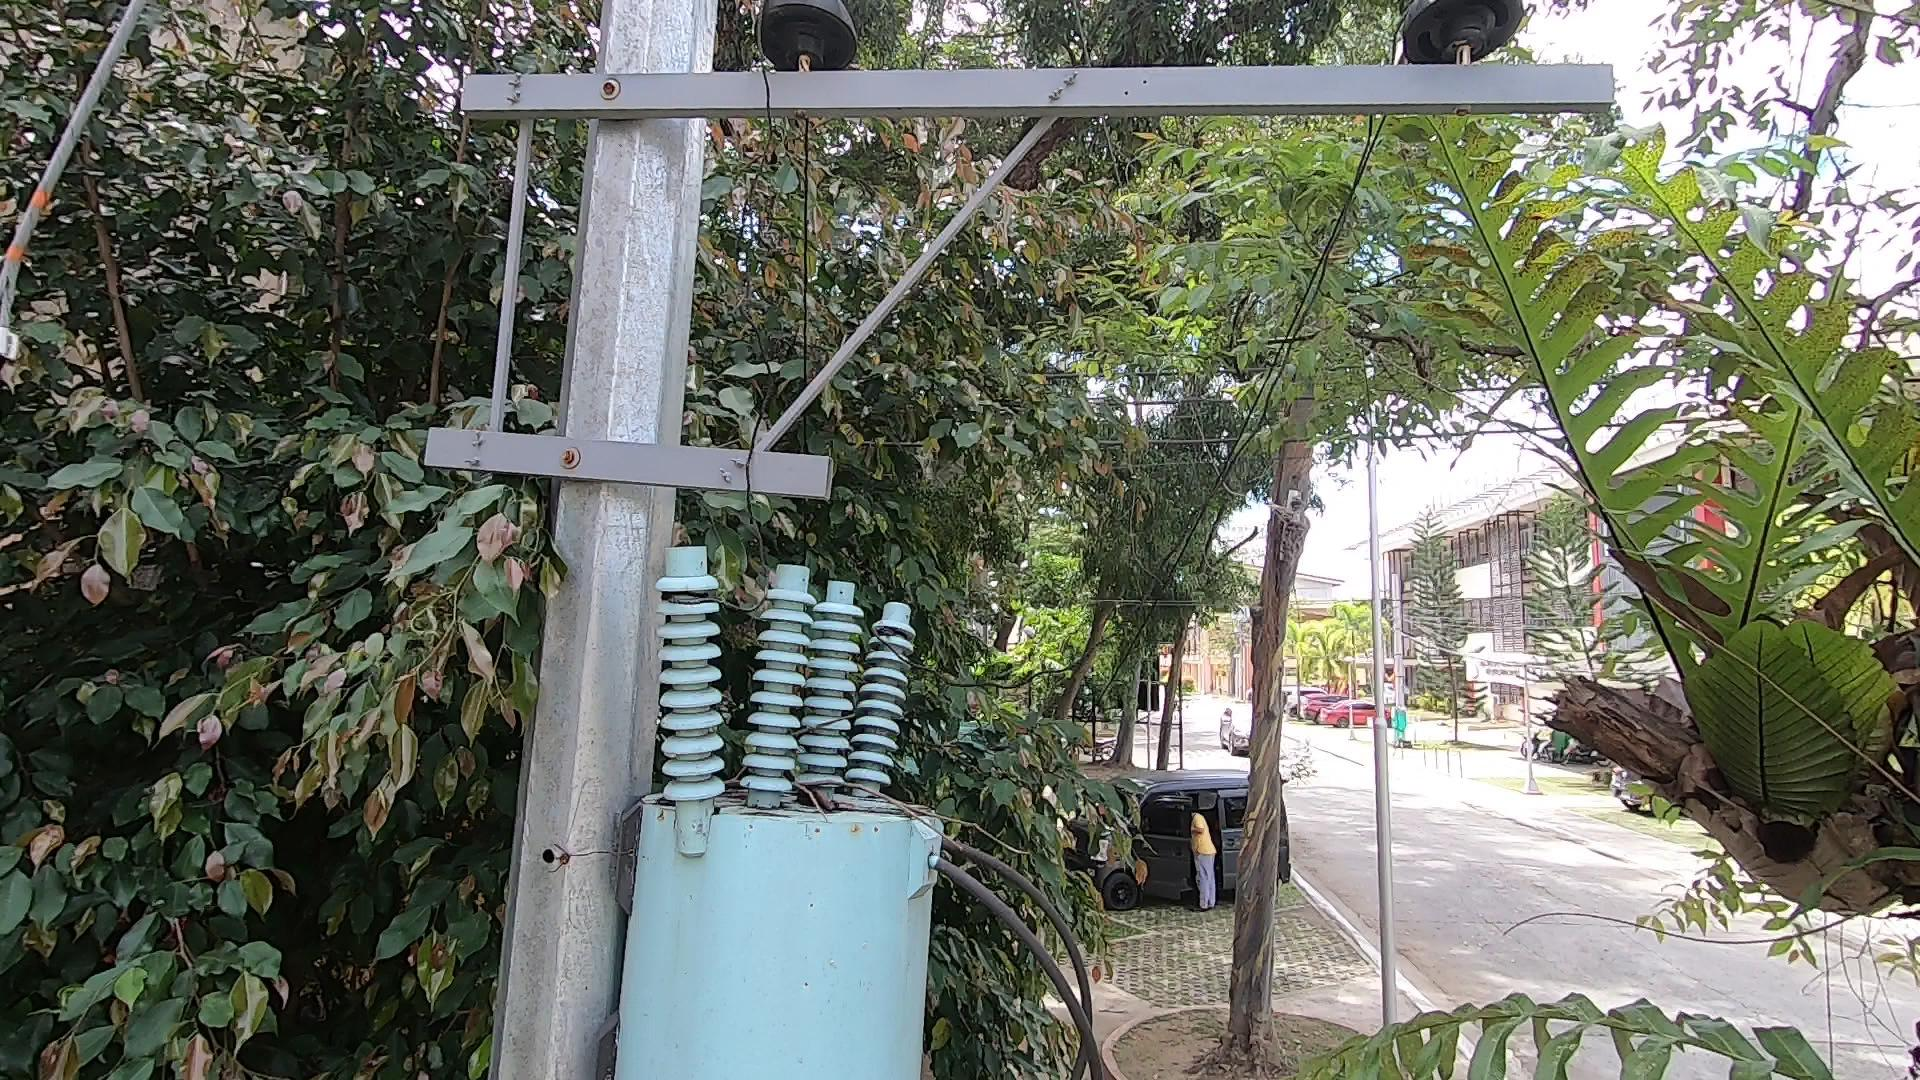leaf: (790, 781, 851, 819)
tree branch: (711, 757, 1044, 898)
